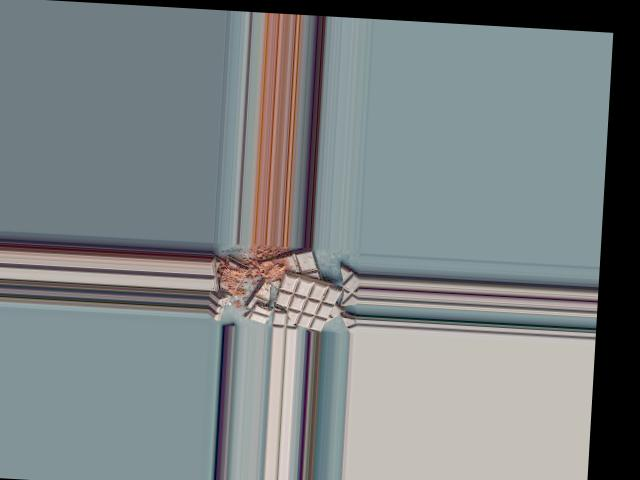chocolate: (274, 272, 344, 332)
